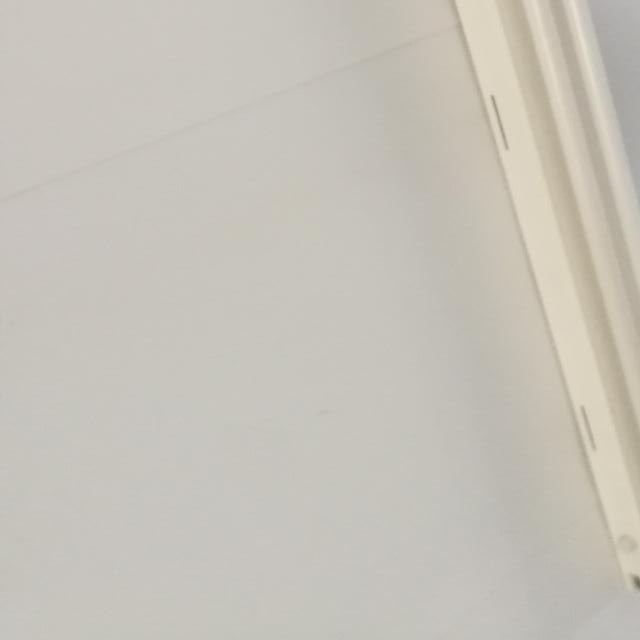fluorescent tube: (271, 0, 640, 611)
